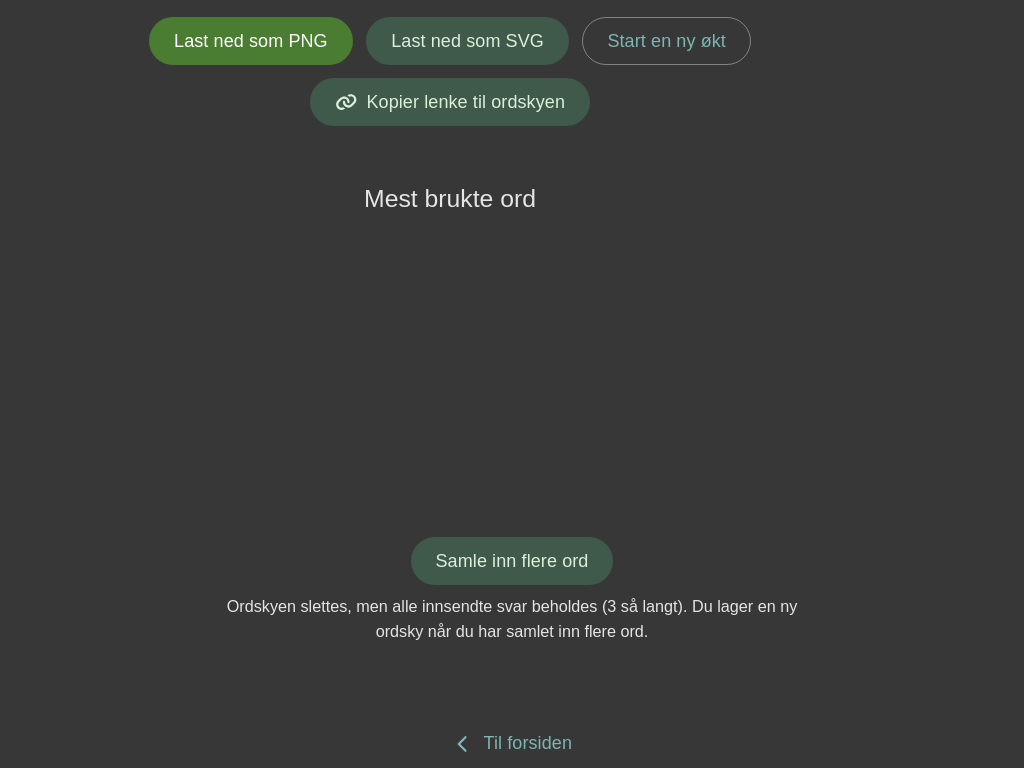
Scenario: CollectPage › given a session where the cloud is already made › when the admin clicks collect more words and the network fails, then an error is shown instead of a stuck spinner
The width and height of the screenshot is (1024, 768).
(page scrolled)
Click the button "Samle inn flere ord". click: (512, 561)
box: [410, 537, 614, 585]
(page scrolled)
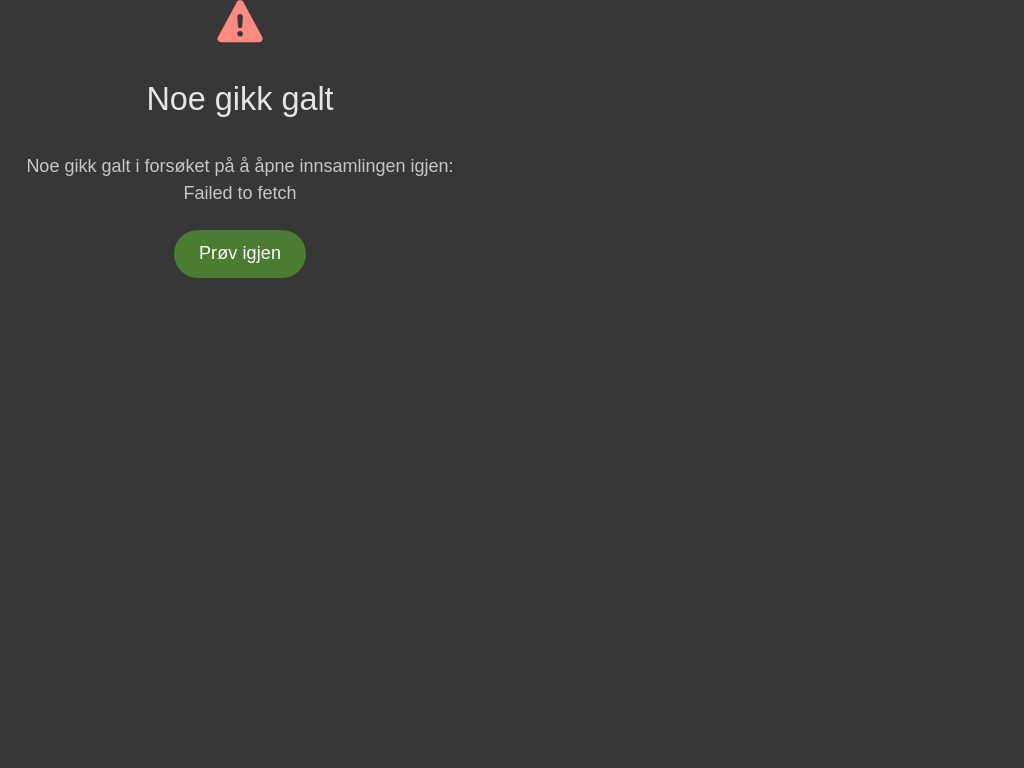
Result: the text "Noe gikk galt i forsøket på å åpne innsamlingen igjen" is shown at [26, 156, 454, 203]
